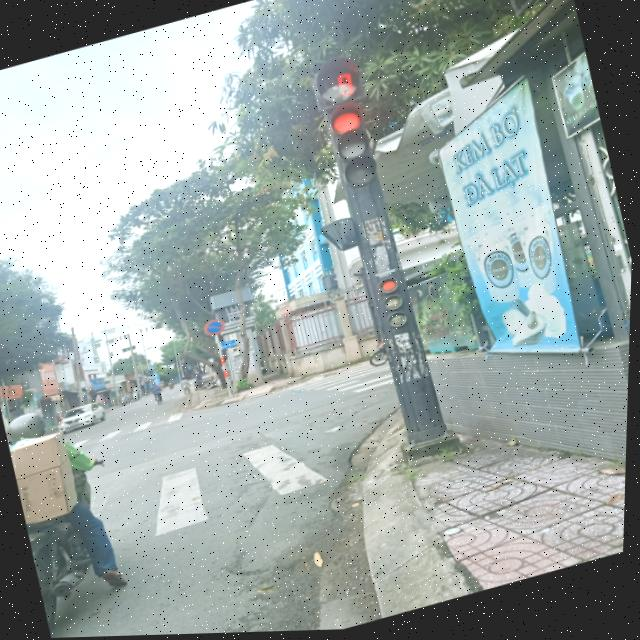Red: (319, 98, 386, 207), (368, 270, 420, 338)
